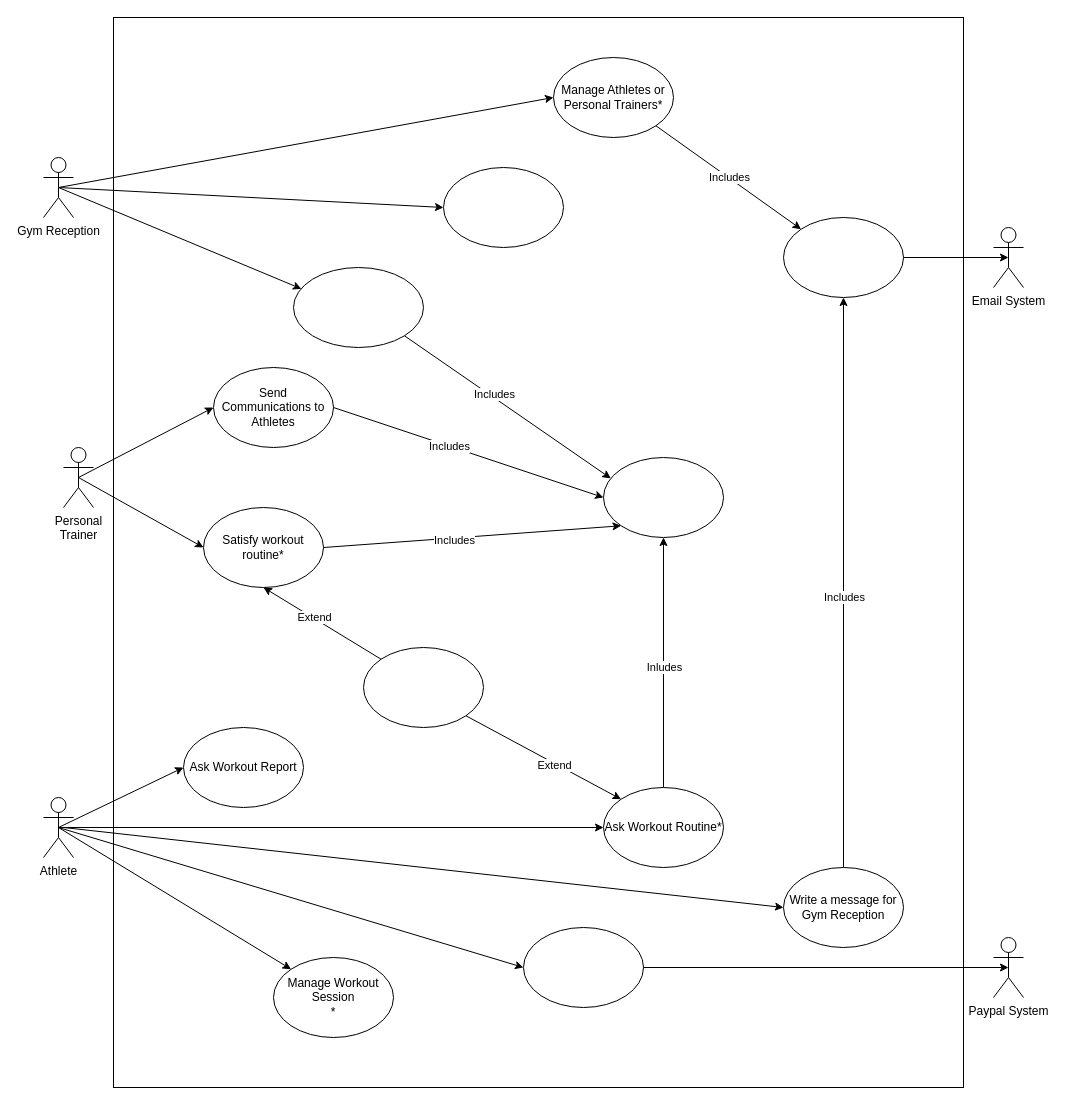
The diagram is 1066 pixels wide and 1105 high, and some of its shapes have lost their labels. Each missing label, with the box of its shape:
Add a comment*: (362, 646, 484, 728)
Manage Gym Equipment: (442, 166, 564, 248)
Manage membership*: (522, 926, 644, 1008)
Send an email*: (782, 216, 904, 298)
Send communications to users: (292, 266, 424, 348)
Send Notification *: (602, 456, 724, 538)
